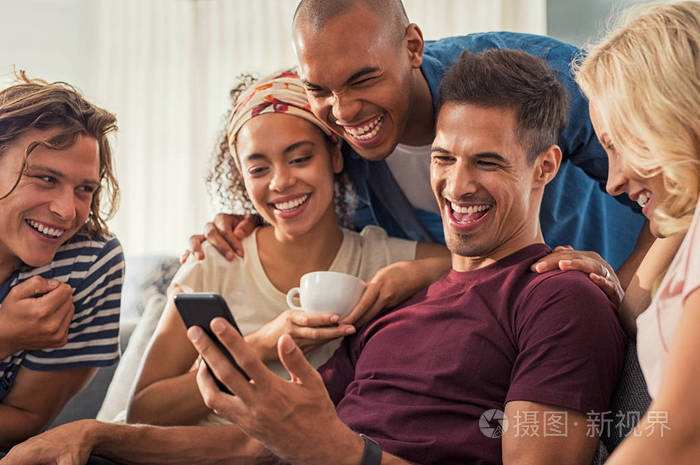reading: (171, 289, 355, 464)
